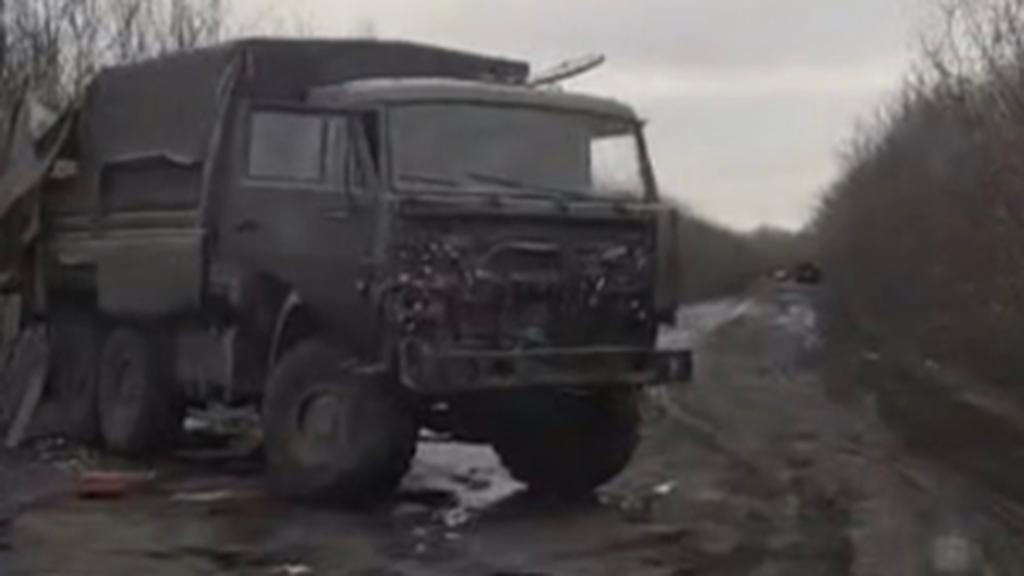TRUCK: (8, 20, 668, 510)
